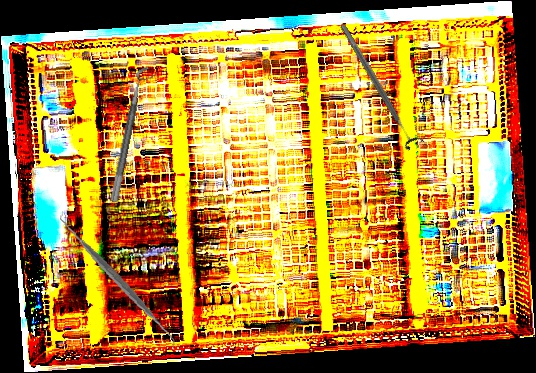Fixation Ring: (333, 19, 425, 152), (109, 64, 158, 206)
Spatula Surgical: (45, 210, 191, 351)
